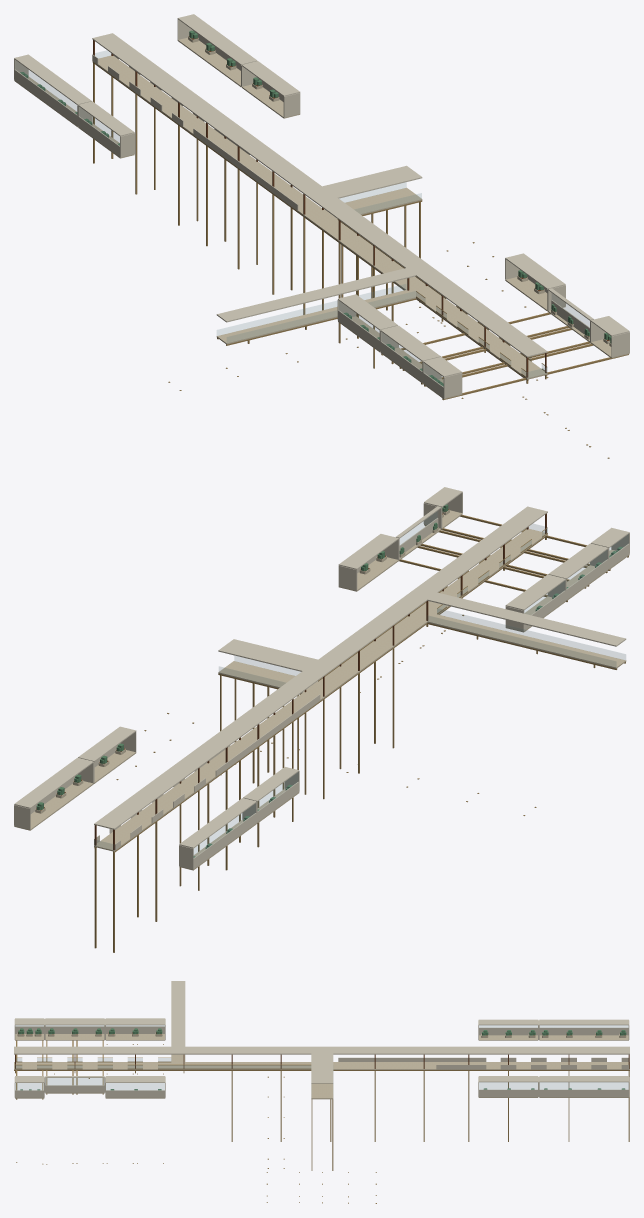
Rendered from D04_STARBOARD_AFT_COMBINEDSTRUCTURE_r001.glb.
3 renders of one model, top to bottom at view 1: azimuth 30°, elevation 25°; view 2: azimuth 150°, elevation 25°; view 3: azimuth 270°, elevation 25°, orthographic. The views are drawn at different scales.
Visible parts, largest first — view 1: SA_ReceivingRoof, SA_ReceivingFloor, SAK_D04HC5_west_Roof, SA_PublicArrivalGuard_403.5, SAK_D04HC5_east_Roof, SA_PublicArrivalGuard_406.9, SAK_D04HC_west_Roof, SAK_D04HC2_east_Roof, SAK_D04HC_east_Roof, SAK_D04HC5_west_Floor, SAK_D04H4_D04NR_EastGuard_0_Successor_0, SAK_D04HC4_west_Roof (+4 smaller); view 2: SA_ReceivingRoof, SA_ReceivingFloor, SA_PublicArrivalGuard_406.9, SA_PublicArrivalGuard_403.5, SAK_D04HC5_west_Roof, SAK_D04HC5_east_Roof, SAK_D04HC_east_Roof, SAK_D04HC_west_Roof, SAK_D04HC2_east_Roof, SAK_D04HC5_west_Floor, SAK_D04H4_D04NR_EastGuard_0_Successor_0, SAK_D04HC4_west_Roof (+3 smaller); view 3: SA_ReceivingRoof, SA_ReceivingFloor, SAK_D04H4_D04NR_EastGuard_0_Successor_0, SAK_D04HC5_west_PrivacyScreen, SAK_D04HC5_west_GlassUpper, SAK_D04HC5_east_PrivacyScreen, SAK_D04HC5_west_Roof, SAK_D04HC5_east_Roof, SAK_D04H_GuardSuccessor_D04PF_UpperGuard_17_2, SA_StreetLong_45.85, SAK_D04HC_east_Roof, SAK_D04HC4_west_PrivacyScreen (+15 smaller).
Part boxes in pixels (x1,y1,x2,y2): SA_ReceivingRoof: [92, 33, 547, 357]; SA_ReceivingFloor: [92, 55, 547, 379]; SAK_D04HC5_west_Roof: [177, 14, 257, 65]; SA_PublicArrivalGuard_403.5: [217, 284, 405, 335]; SAK_D04HC5_east_Roof: [14, 54, 91, 105]; SA_PublicArrivalGuard_406.9: [227, 291, 415, 342]; SAK_D04HC_west_Roof: [505, 253, 565, 289]; SAK_D04HC2_east_Roof: [380, 325, 440, 361]; SAK_D04HC_east_Roof: [338, 294, 397, 330]; SAK_D04HC5_west_Floor: [177, 37, 241, 87]; SAK_D04H4_D04NR_EastGuard_0_Successor_0: [193, 128, 298, 210]; SAK_D04HC4_west_Roof: [242, 61, 300, 96]; SA_ReceivingRoof: [94, 506, 626, 829]; SA_ReceivingFloor: [94, 529, 626, 851]; SA_PublicArrivalGuard_406.9: [437, 608, 625, 659]; SA_PublicArrivalGuard_403.5: [427, 616, 616, 666]; SAK_D04HC5_west_Roof: [14, 757, 93, 808]; SAK_D04HC5_east_Roof: [179, 798, 256, 848]; SAK_D04HC_east_Roof: [505, 574, 565, 610]; SAK_D04HC_west_Roof: [338, 534, 398, 569]; SAK_D04HC2_east_Roof: [548, 543, 608, 579]; SAK_D04HC5_west_Floor: [14, 781, 93, 830]; SAK_D04H4_D04NR_EastGuard_0_Successor_0: [215, 694, 320, 776]; SAK_D04HC4_west_Roof: [78, 726, 136, 761]; SA_ReceivingRoof: [14, 981, 629, 1083]; SA_ReceivingFloor: [14, 1054, 629, 1099]; SAK_D04H4_D04NR_EastGuard_0_Successor_0: [338, 1057, 486, 1061]; SAK_D04HC5_west_PrivacyScreen: [539, 1089, 628, 1096]; SAK_D04HC5_west_GlassUpper: [540, 1082, 628, 1089]; SAK_D04HC5_east_PrivacyScreen: [539, 1027, 628, 1035]; SAK_D04HC5_west_Roof: [539, 1076, 628, 1082]; SAK_D04HC5_east_Roof: [539, 1019, 628, 1025]; SAK_D04H_GuardSuccessor_D04PF_UpperGuard_17_2: [158, 1065, 310, 1068]; SA_StreetLong_45.85: [14, 1070, 629, 1070]; SAK_D04HC_east_Roof: [105, 1018, 165, 1025]; SAK_D04HC4_west_PrivacyScreen: [478, 1089, 538, 1096].
Size of the model in its own units: 78.59 by 24.15 by 151.
7 materials, 4 textured.
